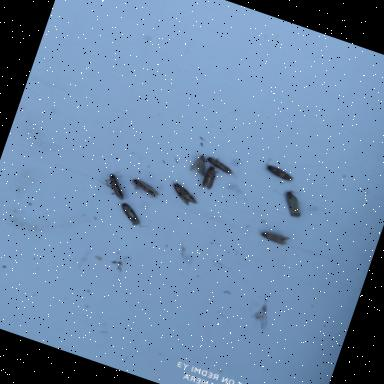pbw: (98, 168, 132, 201), (166, 181, 202, 208), (280, 188, 308, 220), (116, 201, 146, 228), (128, 177, 162, 199), (264, 164, 296, 184), (204, 156, 236, 176), (259, 228, 291, 247), (190, 152, 211, 176), (201, 166, 220, 192)
